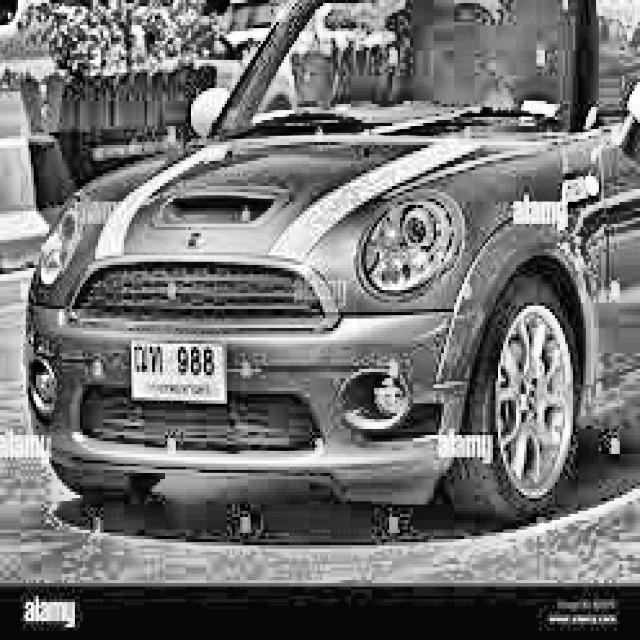license-plate: (126, 334, 239, 413)
